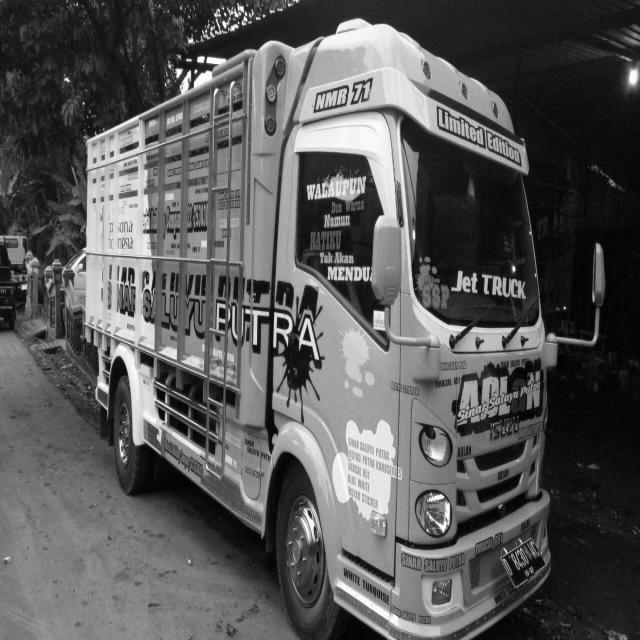truck: (223, 1, 605, 640)
